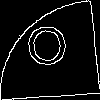O: (25, 25, 70, 75)
